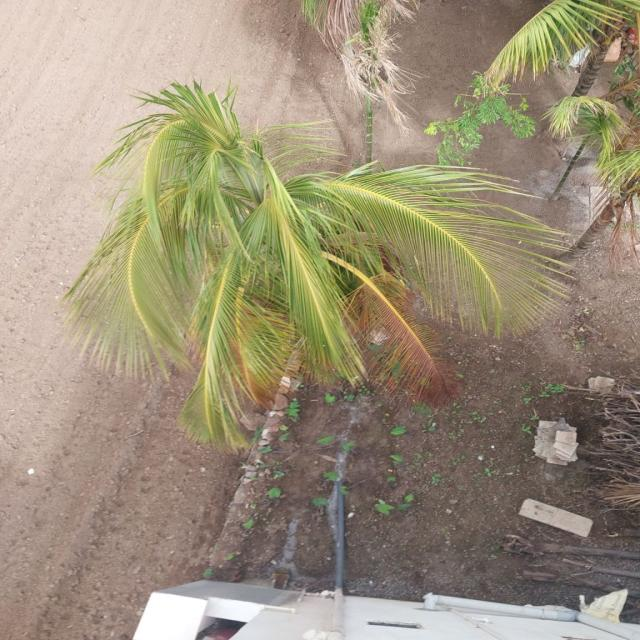bud root dropping: (67, 82, 565, 449)
